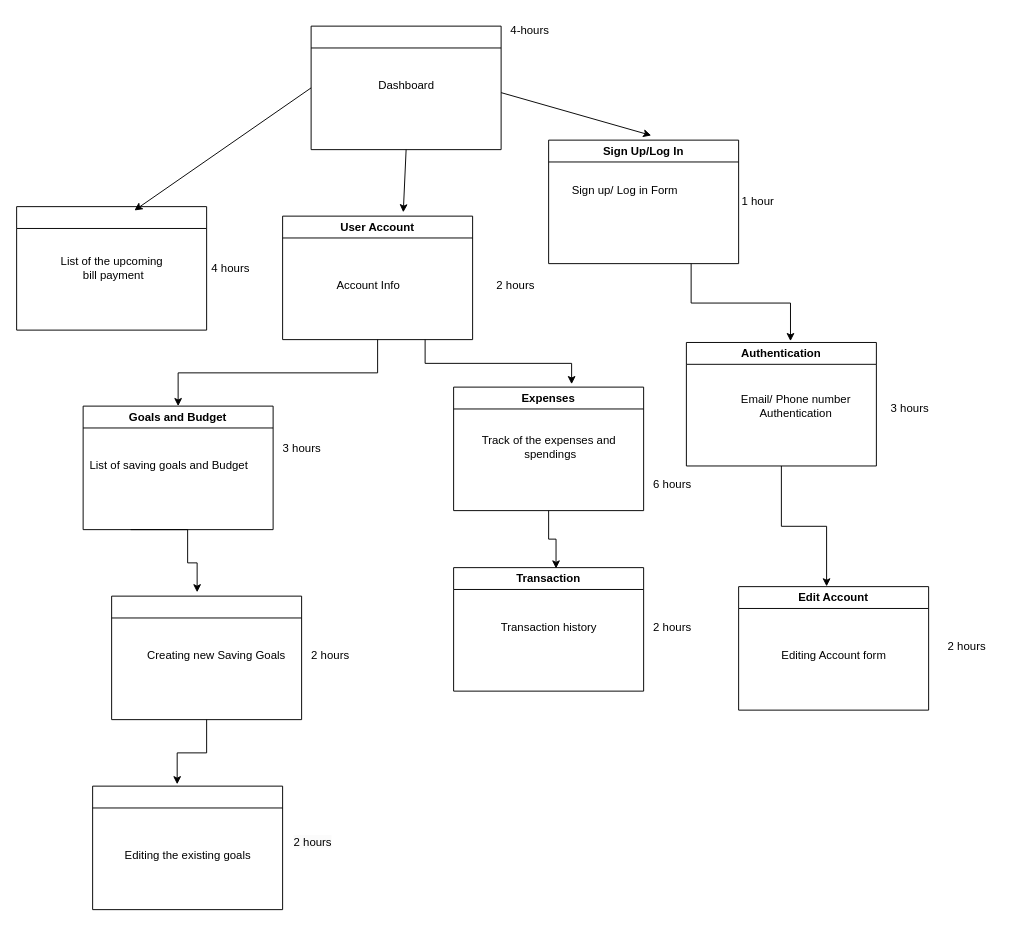
Image size: 1012x926. Some labels were removed from this diagram. The shapes that lost their labels are listed below. From the top down, each one's box as (x1, y1, x2, y2) in pixels, then its label:
(310, 25, 501, 150): Home Page
(16, 206, 207, 330): Reminders and Notification
(111, 595, 302, 720): Creation of goals/Budgets
(92, 785, 283, 910): Set/Edit Goals
